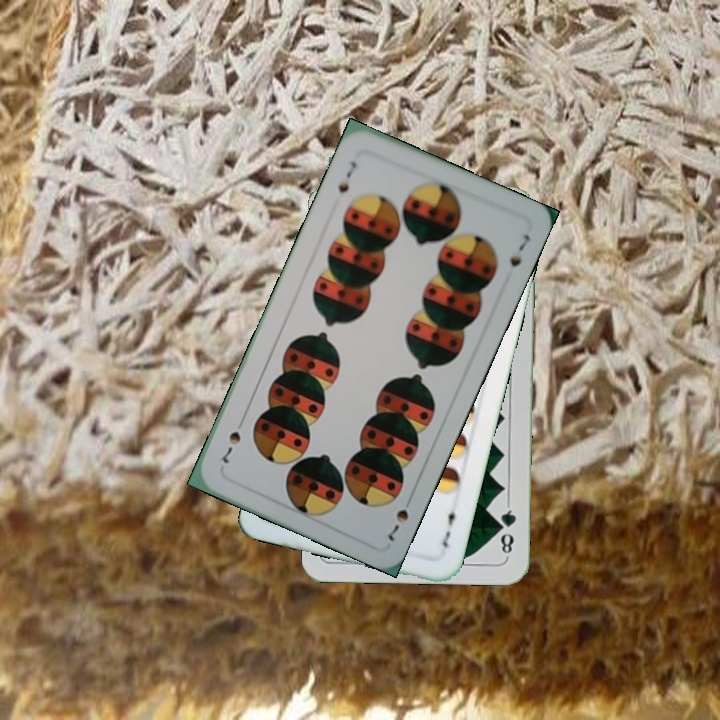E7: (438, 501, 461, 550)
G8: (495, 500, 519, 559)
S7: (384, 505, 411, 544), (333, 157, 360, 196)
